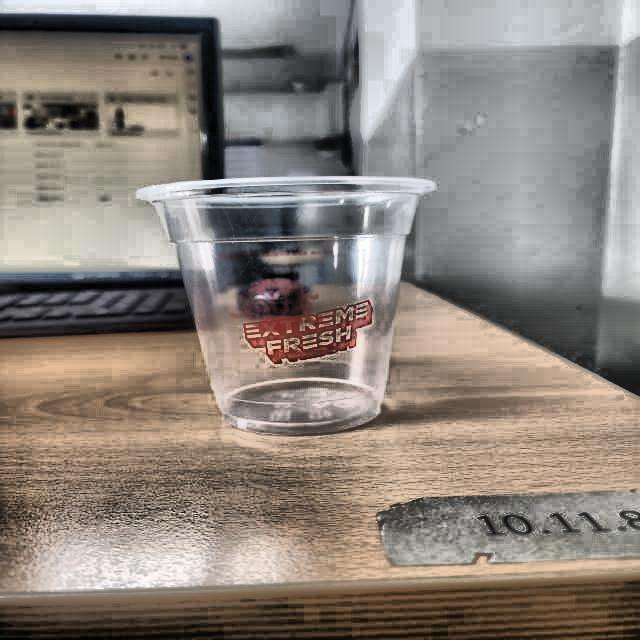plastic cup: (134, 176, 438, 436)
